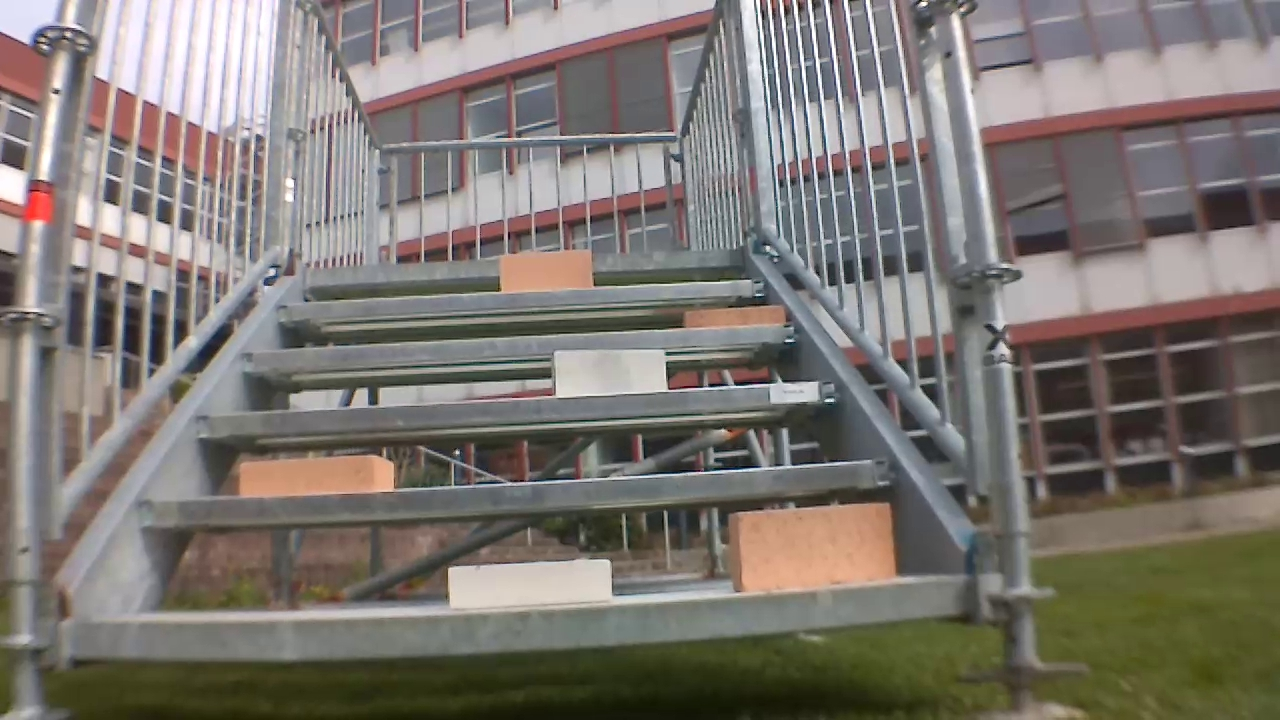brick: (729, 503, 896, 594), (448, 561, 610, 608), (240, 455, 393, 495), (553, 350, 664, 396), (500, 251, 590, 290), (685, 305, 783, 328)
edge: (75, 579, 972, 661), (136, 459, 892, 526), (194, 380, 843, 435), (240, 323, 801, 368), (279, 277, 763, 319), (302, 247, 743, 286)
stairs: (12, 4, 1059, 716)
steps: (68, 240, 981, 669)
